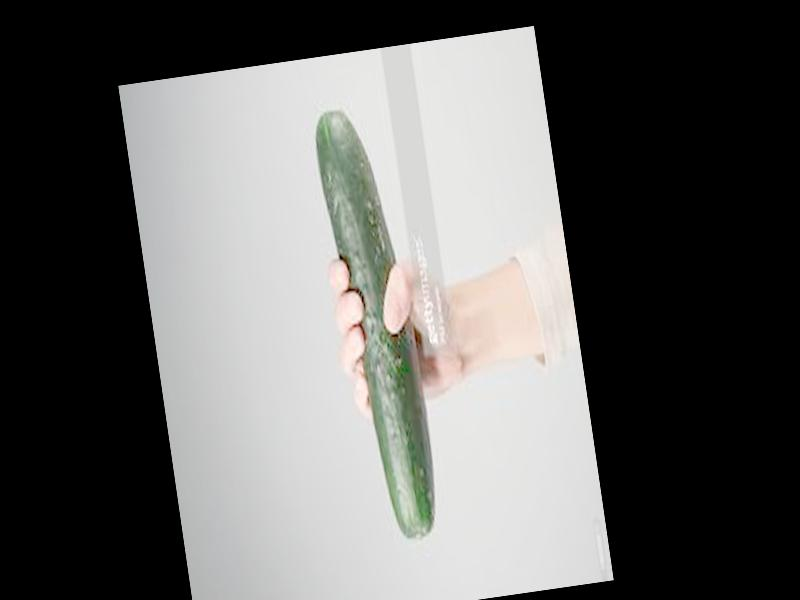Cucumber: (310, 103, 442, 537)
